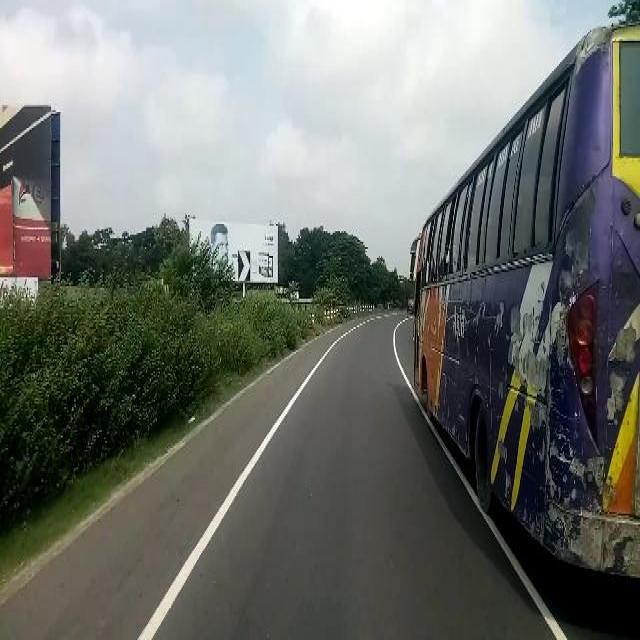19: (406, 296, 414, 312)
Truck: (409, 22, 639, 582)
